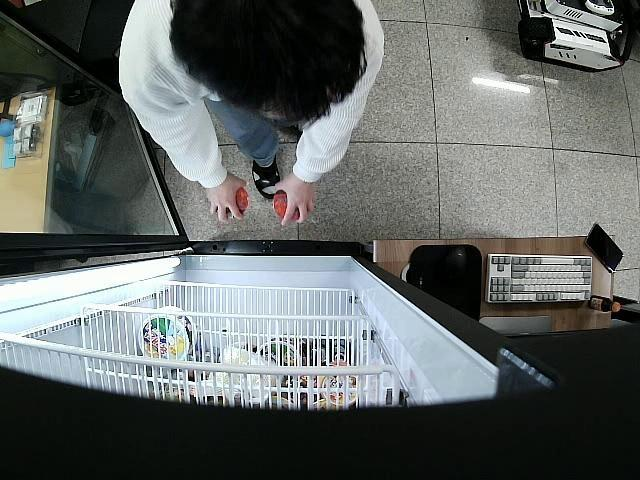02_shinRamen_S: (271, 190, 310, 222), (227, 186, 250, 222)
